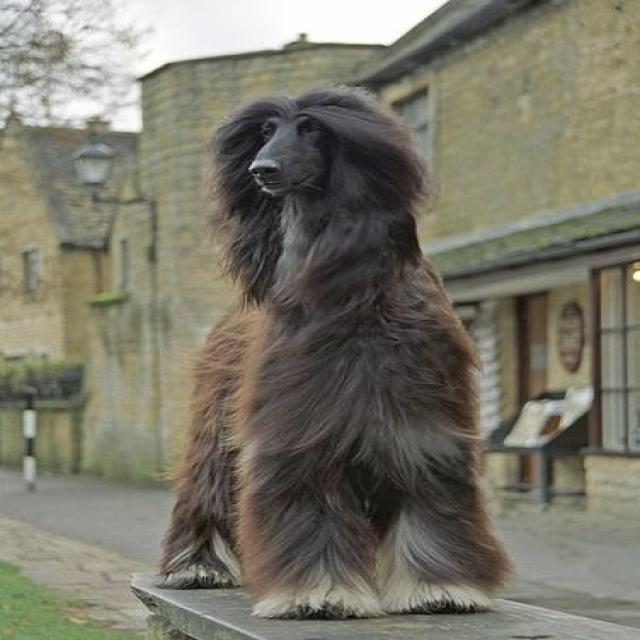afghan_hound: (156, 83, 514, 617)
